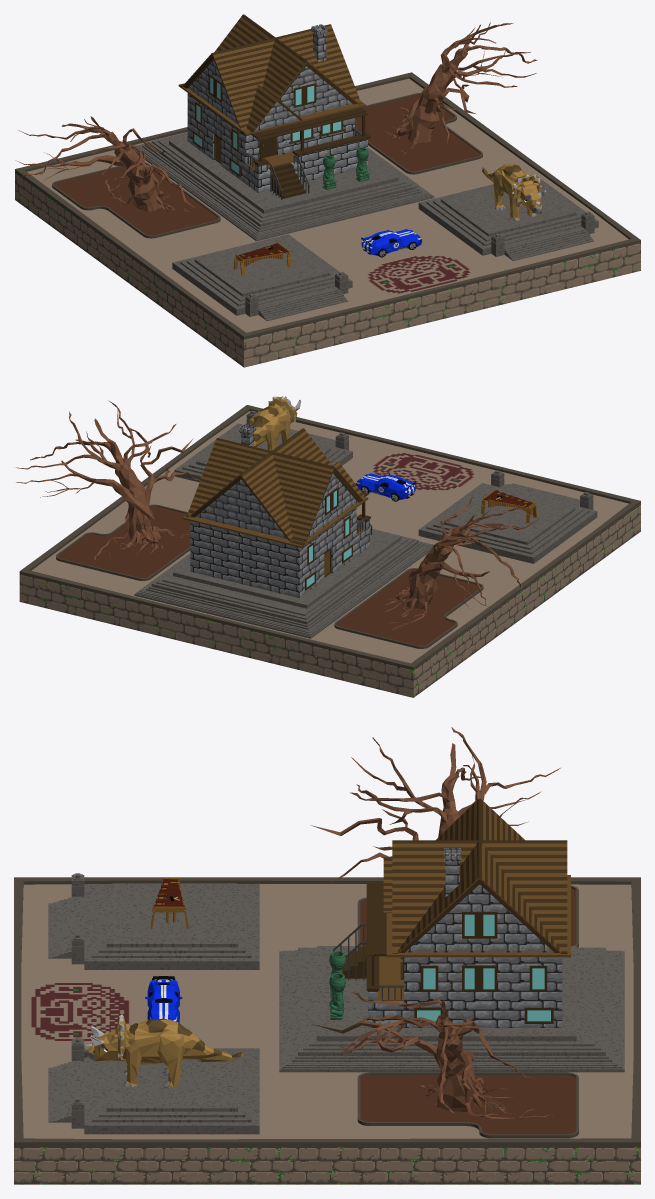
3 renders of one model, top to bottom at view 1: azimuth 30°, elevation 25°; view 2: azimuth 150°, elevation 25°; view 3: azimuth 270°, elevation 25°, orthographic. The views are drawn at different scales.
Visible parts, largest first — view 1: Cube.011, Cube.586, ANIMAL_Triceratops, VEHICLES_RACING_CAR, OBJRANDOM_MARIMBA; view 2: Cube.011, Cube.586, ANIMAL_Triceratops, VEHICLES_RACING_CAR, OBJRANDOM_MARIMBA; view 3: Cube.011, Cube.586, ANIMAL_Triceratops, VEHICLES_RACING_CAR, OBJRANDOM_MARIMBA.
Boxes of the visible parts, x1,y1,x2,y2 form: Cube.011: (15, 22, 640, 367); Cube.586: (178, 14, 370, 199); ANIMAL_Triceratops: (482, 163, 546, 220); VEHICLES_RACING_CAR: (361, 229, 422, 257); OBJRANDOM_MARIMBA: (233, 242, 291, 275); Cube.011: (16, 400, 640, 697); Cube.586: (182, 423, 372, 597); ANIMAL_Triceratops: (248, 396, 301, 450); VEHICLES_RACING_CAR: (355, 473, 416, 501); OBJRANDOM_MARIMBA: (481, 489, 536, 523); Cube.011: (14, 727, 640, 1184); Cube.586: (333, 798, 570, 1027); ANIMAL_Triceratops: (83, 1014, 242, 1088); VEHICLES_RACING_CAR: (145, 976, 182, 1022); OBJRANDOM_MARIMBA: (150, 878, 188, 928).
Size of the model in its own units: 5099 by 1821 by 4000.
35 materials, 6 textured.
